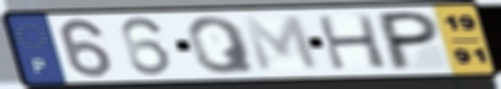6: (58, 17, 116, 80), (120, 15, 174, 78)
H: (313, 12, 391, 72)
M: (239, 14, 324, 74)
P: (378, 10, 441, 73)
Q: (184, 14, 260, 76)
